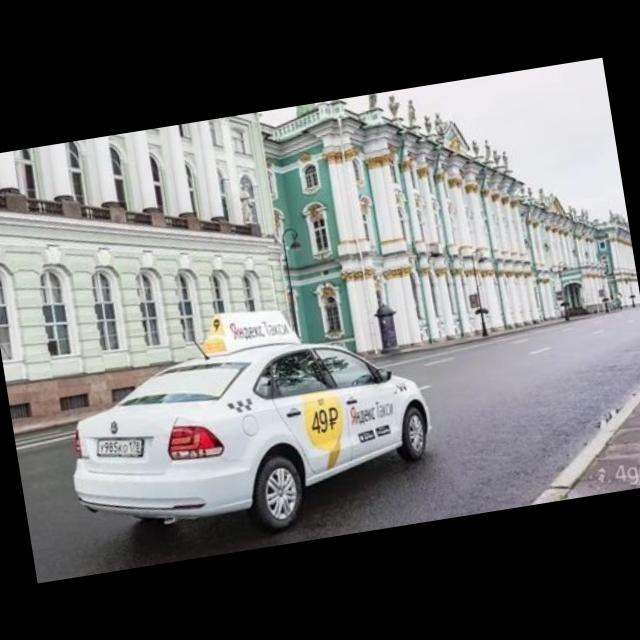taxi: (51, 281, 446, 562)
